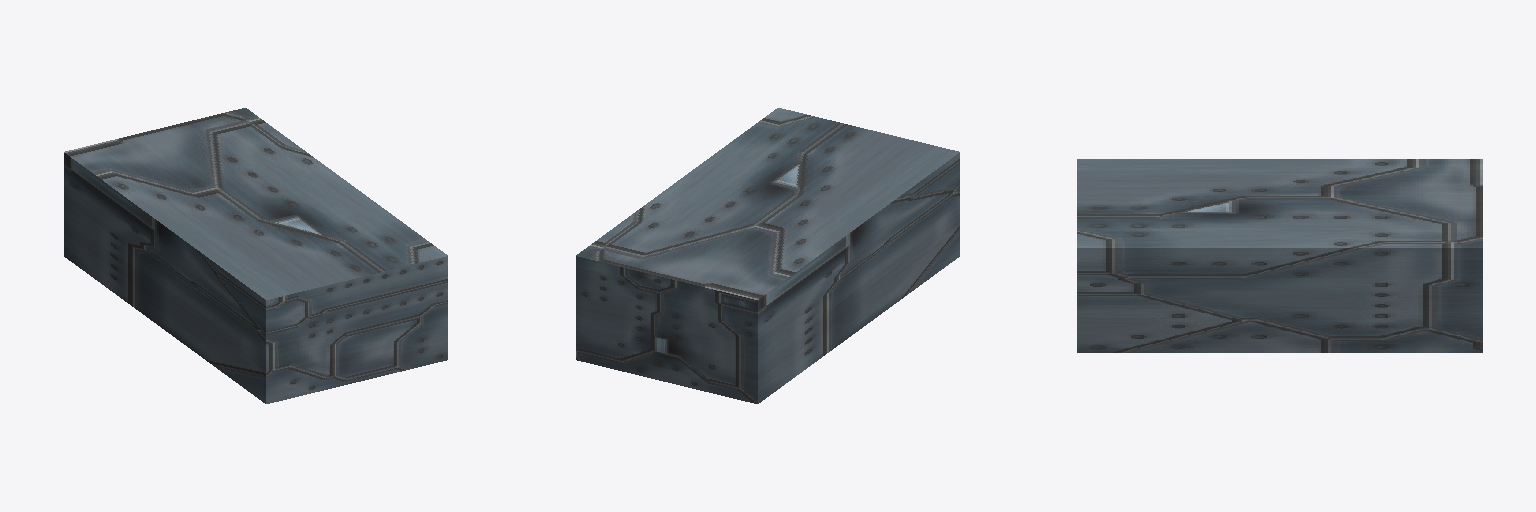
3 renders of one model, left to right at view 1: azimuth 30°, elevation 25°; view 2: azimuth 150°, elevation 25°; view 3: azimuth 270°, elevation 25°, orthographic.
Visible parts, largest first — view 1: Cube; view 2: Cube; view 3: Cube.
Boxes of the visible parts, x1,y1,x2,y2 form: Cube: [64, 108, 447, 403]; Cube: [576, 108, 959, 403]; Cube: [1077, 159, 1482, 352].
Bounding box in the file's own units: 3.64 × 1.99 × 7.01.
1 materials, 1 textured.